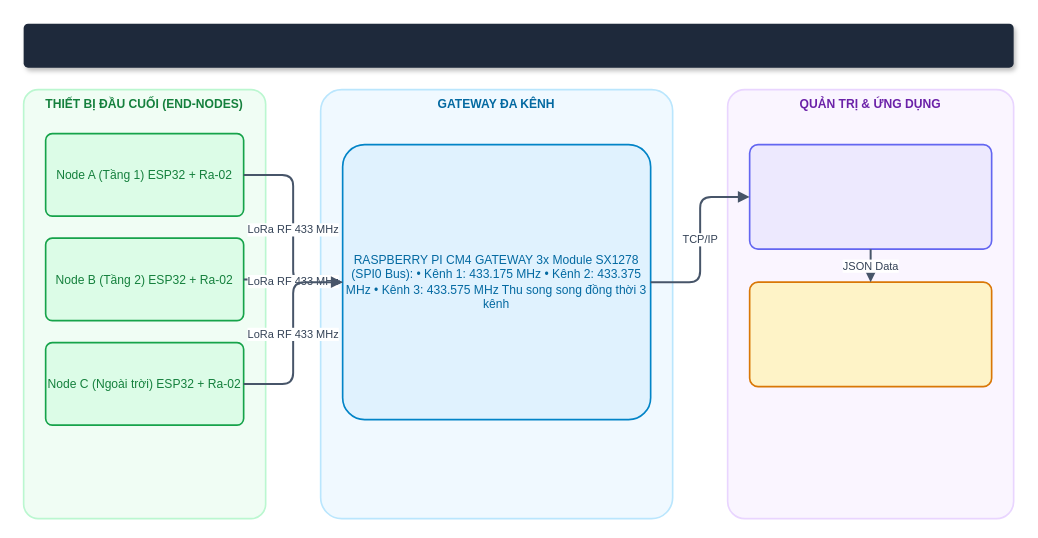
Image size: 1038x538. Some labels were removed from this diagram. The centre of each missing label's shape, as x and y in pixels:
"Application Server & Web • Giải mã Payload gói tin • CSDL và Web Dashboard" belongs at pixel 870 334.
"KIẾN TRÚC MẠNG LORAWAN HÌNH SAO" belongs at pixel 519 47.
"Network Server • Điều phối khung truyền • Lọc gói tin trùng lặp" belongs at pixel 870 196.
